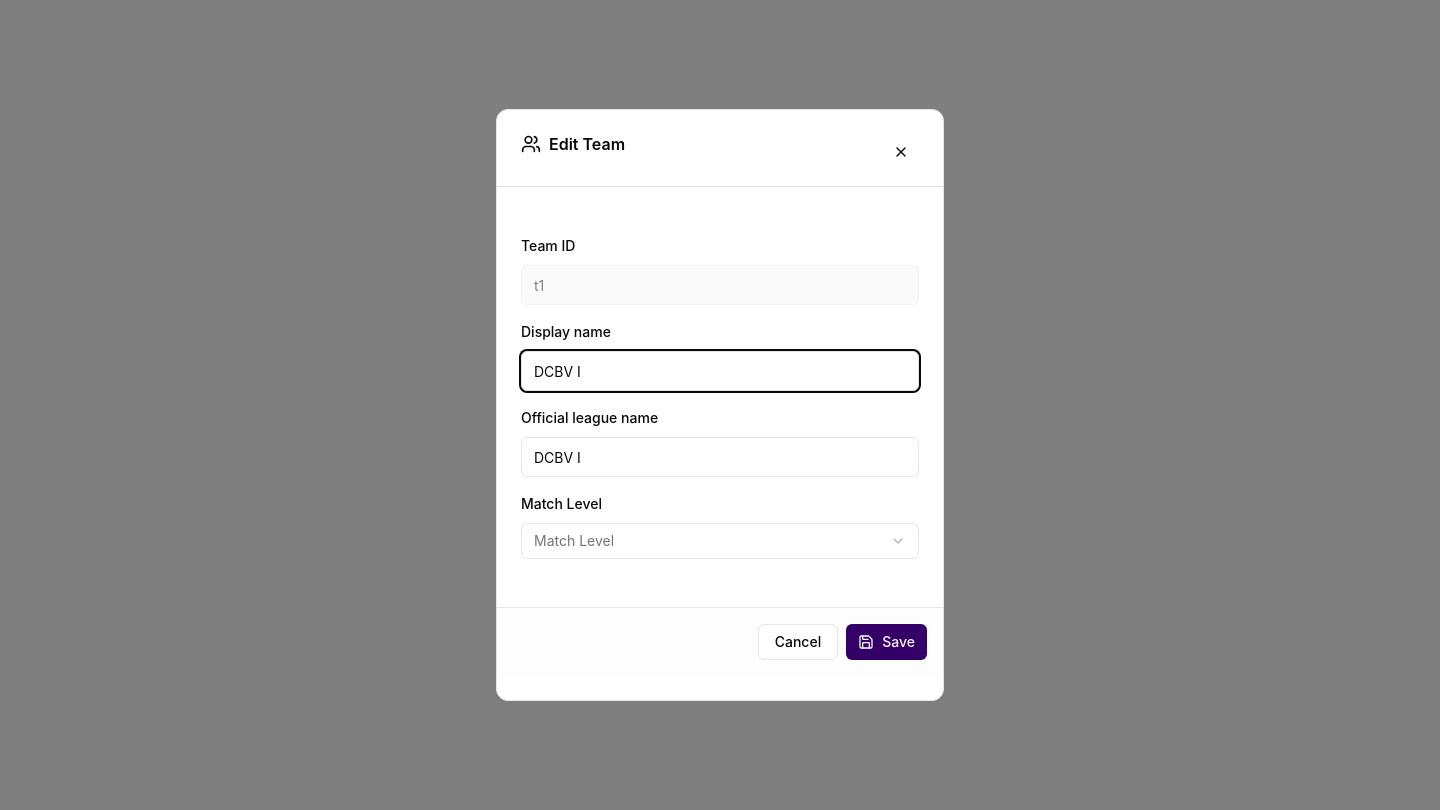
it: Team class modals › does not map a stale persisted class to a canonical selection
The image size is (1440, 810).
Expected: the dropdown labelled "Match Level" is shown, top-left (521, 523), bottom-right (919, 559)
What coordinates should you click on to do the following:
click the button "Save"
I would click on:
 (887, 642)
Its box is top-left (846, 624), bottom-right (927, 660).
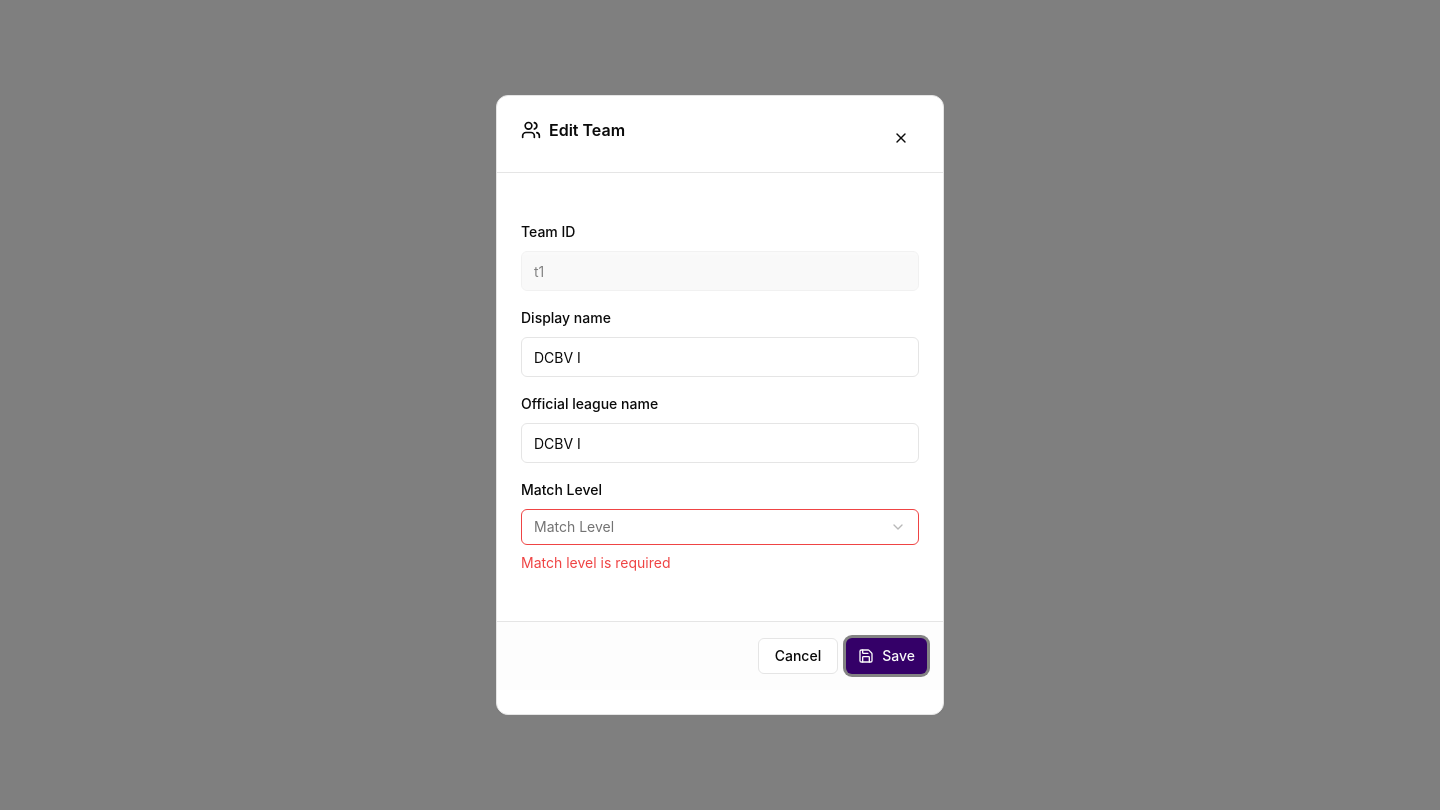
Now the text "Match level is required" is shown, box top-left (521, 554), bottom-right (670, 571)
